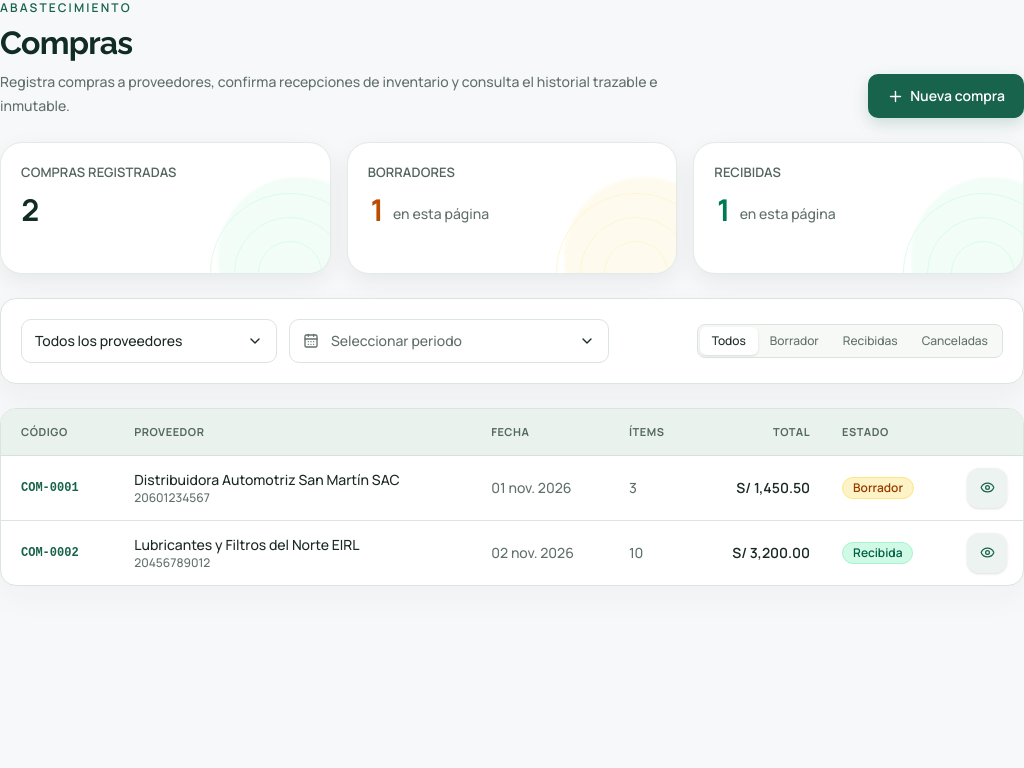
PurchasesPage › abre el modal de nueva compra al hacer clic en el botón correspondiente
This screenshot has width=1024, height=768.
Click the button "Nueva compra".
click(946, 96)  # box [868,74,1023,118]
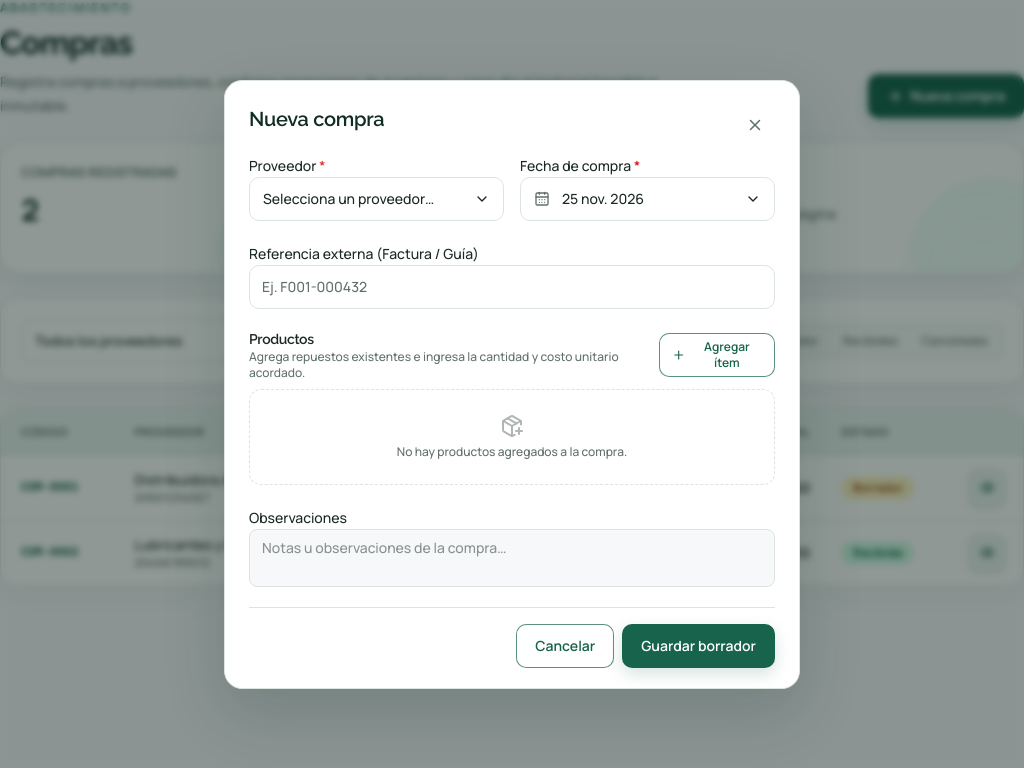
Expected: the dialog is shown, [224,80,800,688]
Expected: the heading "Nueva compra" is shown, [249,106,384,130]
